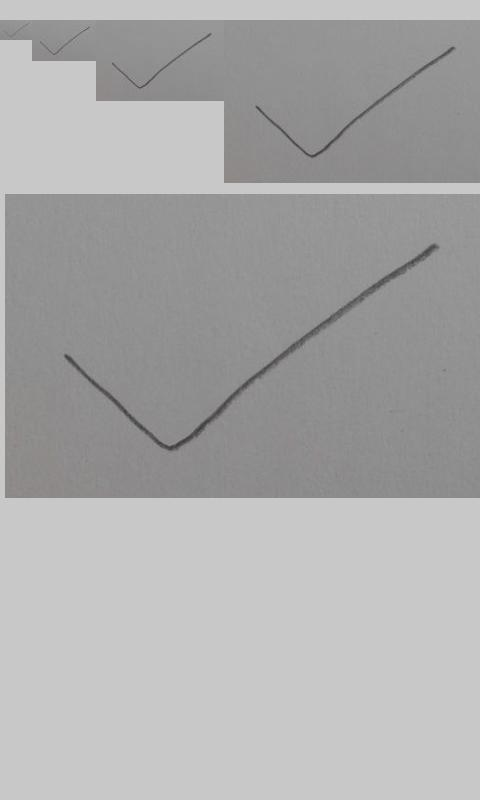check_box: (62, 244, 437, 453), (256, 46, 454, 158), (112, 33, 212, 90), (40, 26, 89, 55), (4, 23, 28, 38)
